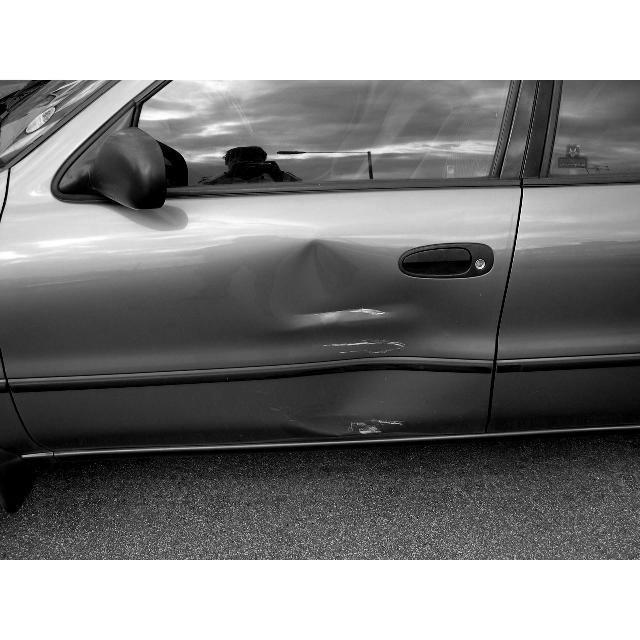doorouter-dent: (203, 218, 489, 469)
